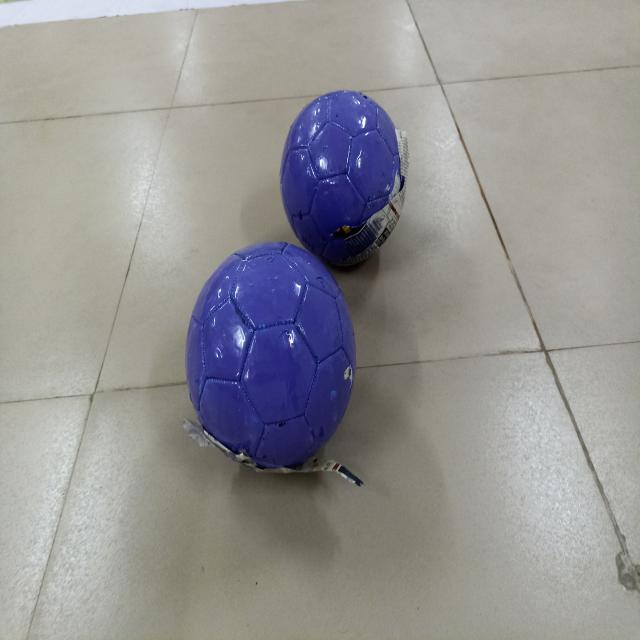purple_ball: (186, 239, 352, 474), (278, 87, 404, 260)
